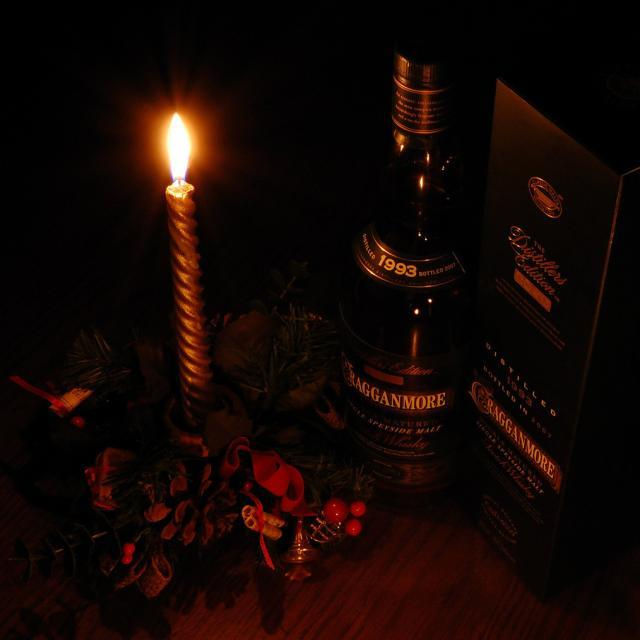Fire: (170, 120, 198, 178)
